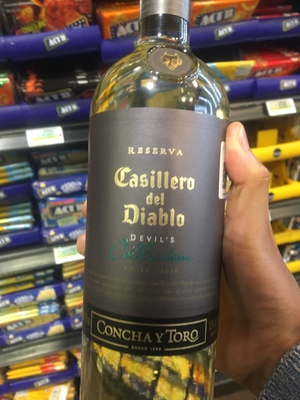casillero del diablo devils collection verde: (76, 14, 245, 400)
